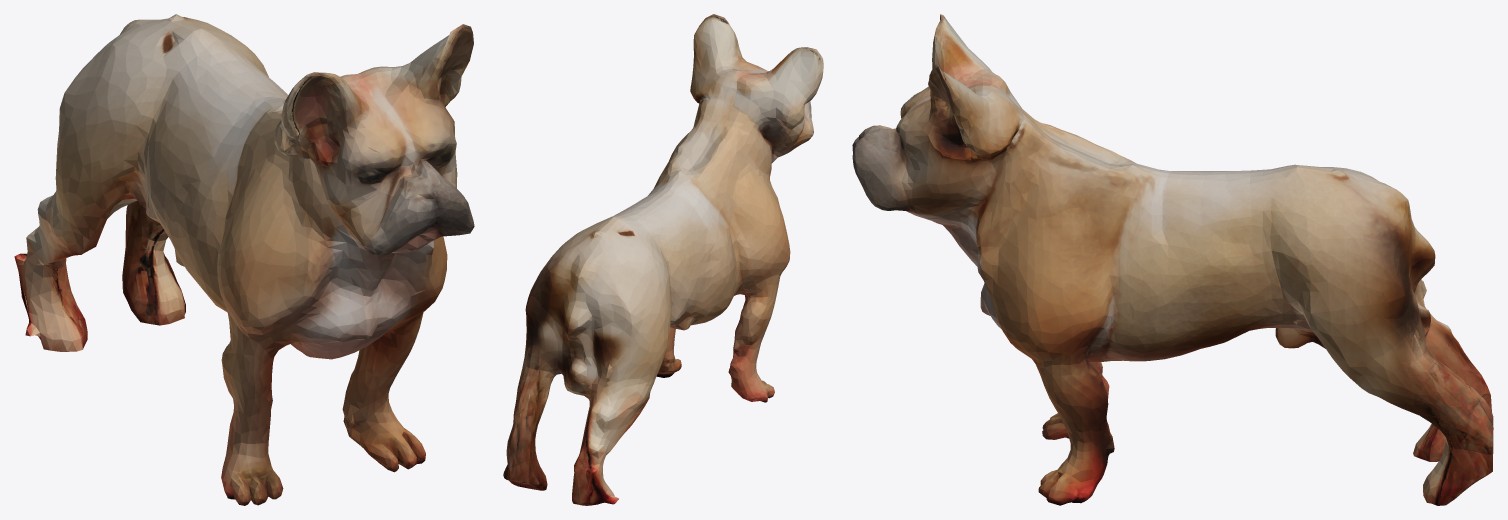
3 views of the same model, side by side, from view 1: azimuth 30°, elevation 25°; view 2: azimuth 150°, elevation 25°; view 3: azimuth 270°, elevation 25° (orthographic). The views are drawn at different scales.
Parts seen in each view (by area): view 1: world; view 2: world; view 3: world.
Boxes of the visible parts, box(x1,y1,x2,y2) form: world: box(14, 14, 474, 505); world: box(503, 14, 823, 505); world: box(852, 14, 1493, 505).
Size of the model in its own units: 0.3265 by 0.7429 by 0.9935.
Materials: 1 (1 with a texture image).
